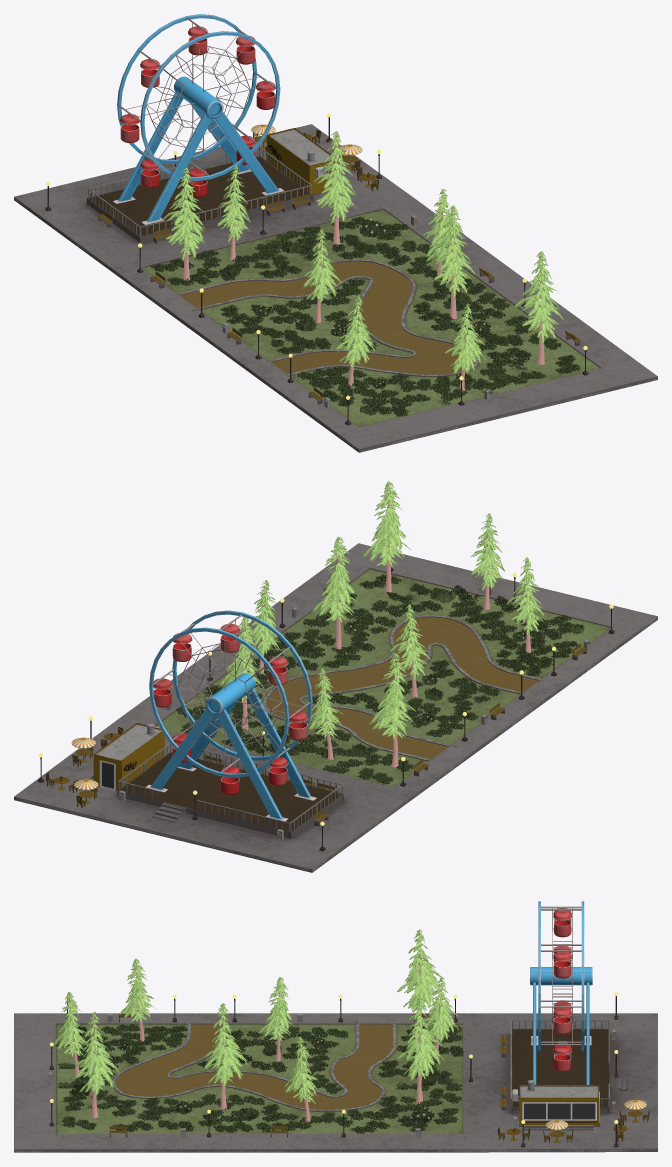
Rendered from park.glb.
3 views of the same model, one above another, from view 1: azimuth 30°, elevation 25°; view 2: azimuth 150°, elevation 25°; view 3: azimuth 270°, elevation 25° (orthographic). The views are drawn at different scales.
Parts seen in each view (by area): view 1: Edificio2_Baked.005_0; view 2: Edificio2_Baked.005_0; view 3: Edificio2_Baked.005_0.
Part boxes in pixels (x1=…): Edificio2_Baked.005_0: x1=14, y1=14, x2=657, y2=452; Edificio2_Baked.005_0: x1=14, y1=481, x2=657, y2=872; Edificio2_Baked.005_0: x1=14, y1=901, x2=657, y2=1152.
Size of the model in its own units: 12.6 by 7.42 by 25.2.
10 materials, 9 textured.
